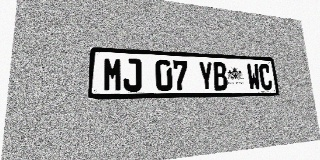0: (155, 59, 173, 91)
7: (172, 60, 189, 91)
B: (212, 62, 228, 91)
C: (258, 64, 273, 90)
J: (123, 58, 142, 92)
M: (103, 57, 123, 92)
W: (246, 63, 261, 90)
Y: (198, 61, 214, 91)
